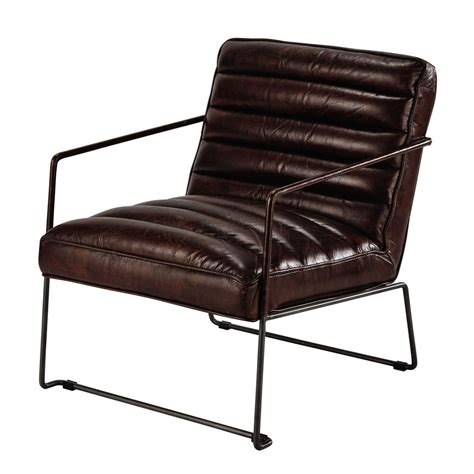cuero: (40, 37, 438, 320)
